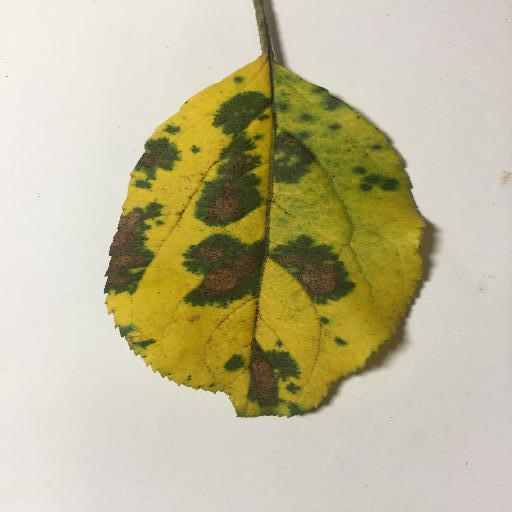Brown_Spot: (273, 239, 337, 297), (112, 207, 154, 290), (205, 142, 247, 214), (200, 241, 254, 293), (252, 353, 281, 409), (134, 149, 162, 174), (277, 132, 302, 155)
